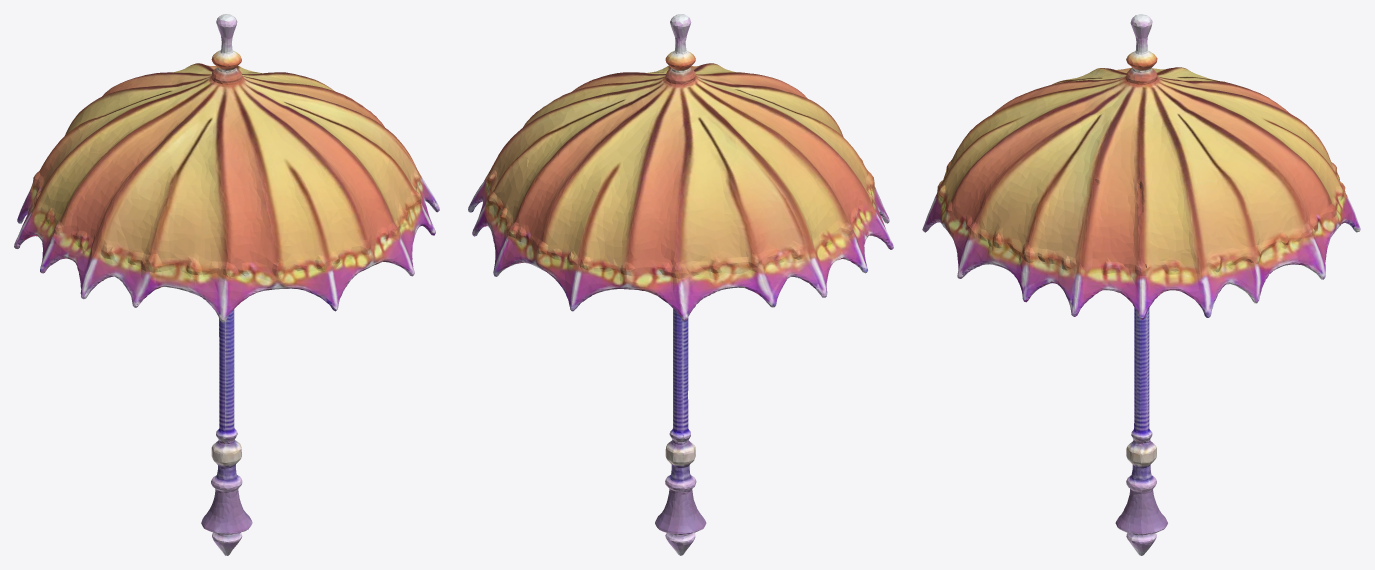
File: daisy_weapon.glb
3 views of the same model, side by side, from view 1: azimuth 30°, elevation 25°; view 2: azimuth 150°, elevation 25°; view 3: azimuth 270°, elevation 25° (orthographic).
Visible parts, largest first — view 1: tmpczx_ckeo.ply; view 2: tmpczx_ckeo.ply; view 3: tmpczx_ckeo.ply.
Boxes of the visible parts, x1,y1,x2,y2 form: tmpczx_ckeo.ply: (14, 14, 439, 555); tmpczx_ckeo.ply: (468, 14, 893, 555); tmpczx_ckeo.ply: (922, 14, 1360, 555).
Bounding box in the file's own units: 1.44 × 1.99 × 1.47.
1 material, 1 textured.
